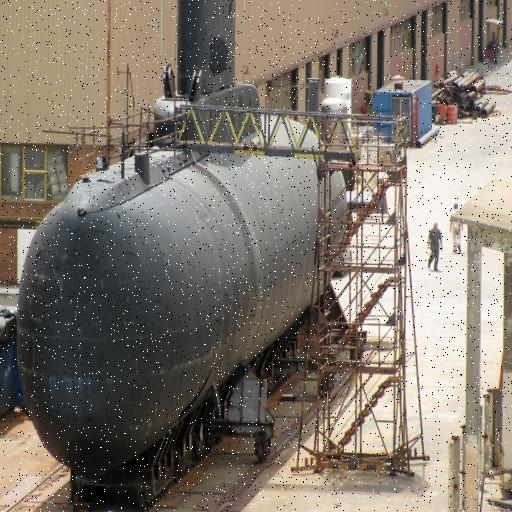submarine: (15, 1, 353, 512)
